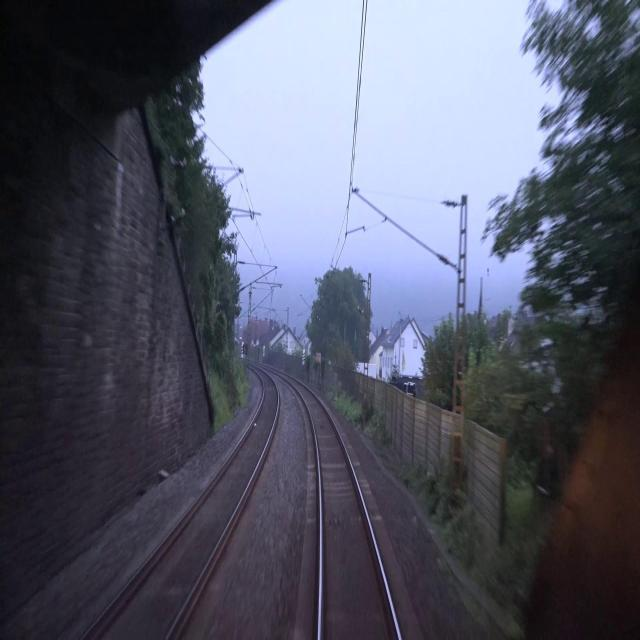rail-track: (297, 385, 397, 639)
